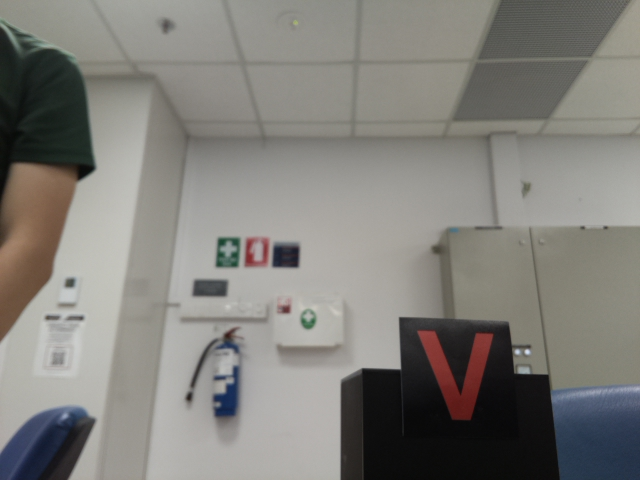v: (407, 328, 503, 419)
